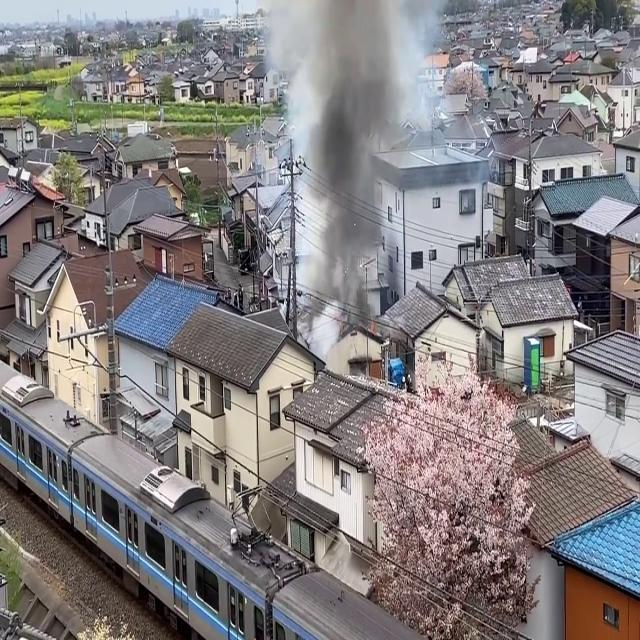Smoke: (299, 0, 401, 325)
